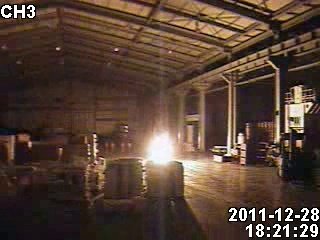fire: (146, 122, 176, 161)
